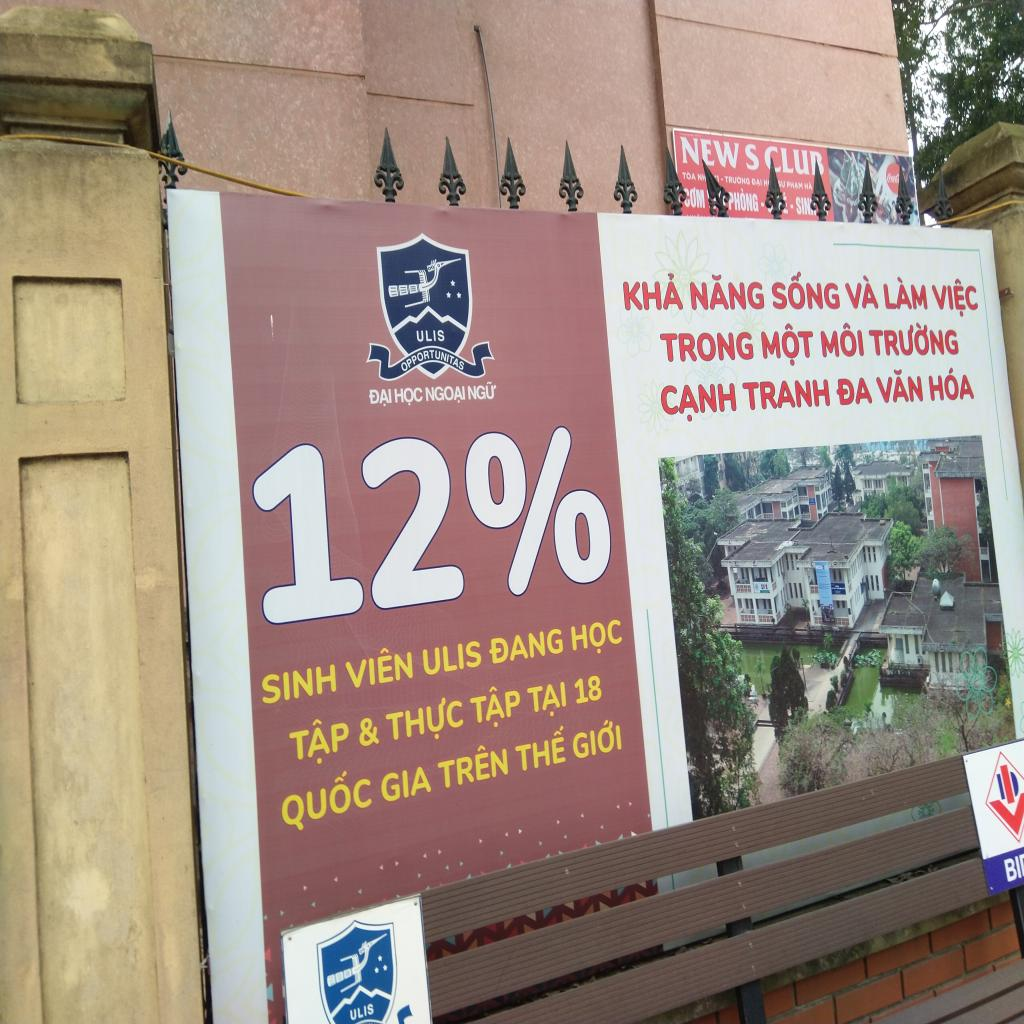text: (236, 405, 629, 638), (276, 762, 375, 839), (382, 692, 468, 752), (284, 711, 353, 774), (430, 738, 510, 792), (256, 659, 340, 710), (865, 319, 963, 362), (341, 639, 416, 693), (656, 382, 740, 427), (484, 622, 566, 668), (654, 329, 756, 365), (686, 271, 767, 315), (464, 678, 524, 737), (739, 376, 831, 414), (766, 270, 842, 314), (510, 721, 570, 776), (617, 269, 686, 315), (755, 320, 817, 370), (565, 613, 627, 662), (418, 636, 484, 679), (572, 715, 626, 764), (928, 272, 982, 320), (375, 766, 435, 808), (386, 346, 469, 376), (877, 270, 930, 314), (869, 366, 926, 406), (926, 362, 978, 405), (678, 135, 740, 170), (764, 144, 826, 179), (816, 320, 866, 361), (524, 681, 570, 723), (842, 271, 882, 311), (833, 374, 876, 411), (570, 671, 604, 708), (423, 383, 468, 405), (392, 384, 426, 410), (726, 188, 760, 214), (1000, 852, 1024, 886), (346, 1000, 378, 1023), (466, 380, 498, 402), (413, 327, 447, 346), (367, 386, 393, 410), (744, 142, 762, 173), (683, 186, 706, 210), (724, 173, 752, 186), (786, 180, 804, 192), (681, 170, 697, 182), (750, 177, 764, 188), (803, 180, 815, 191), (696, 172, 706, 182), (778, 180, 786, 188), (763, 178, 769, 188)
